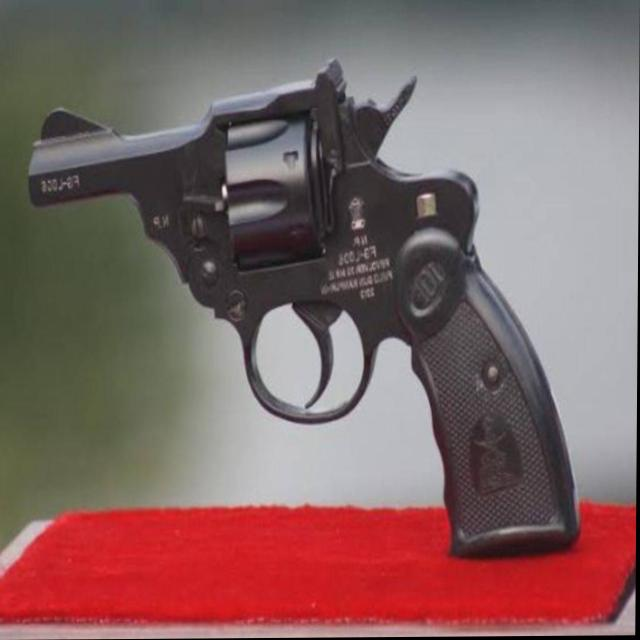handgun: (25, 56, 584, 564)
